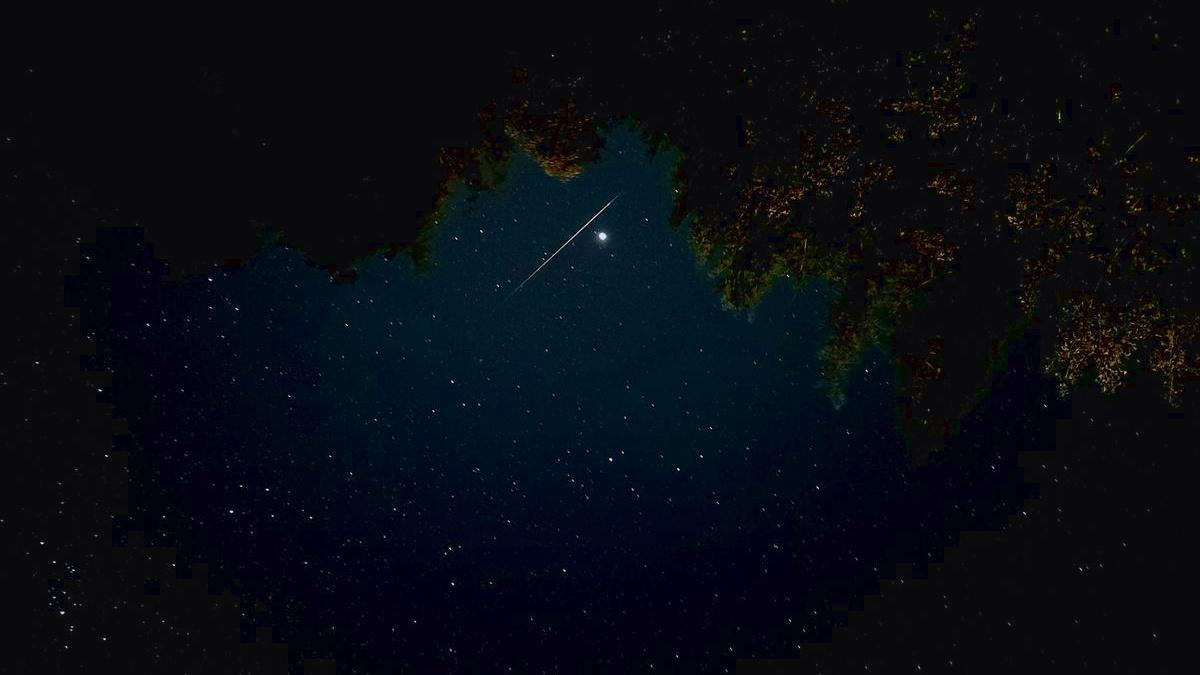meteorite: (559, 190, 628, 252)
